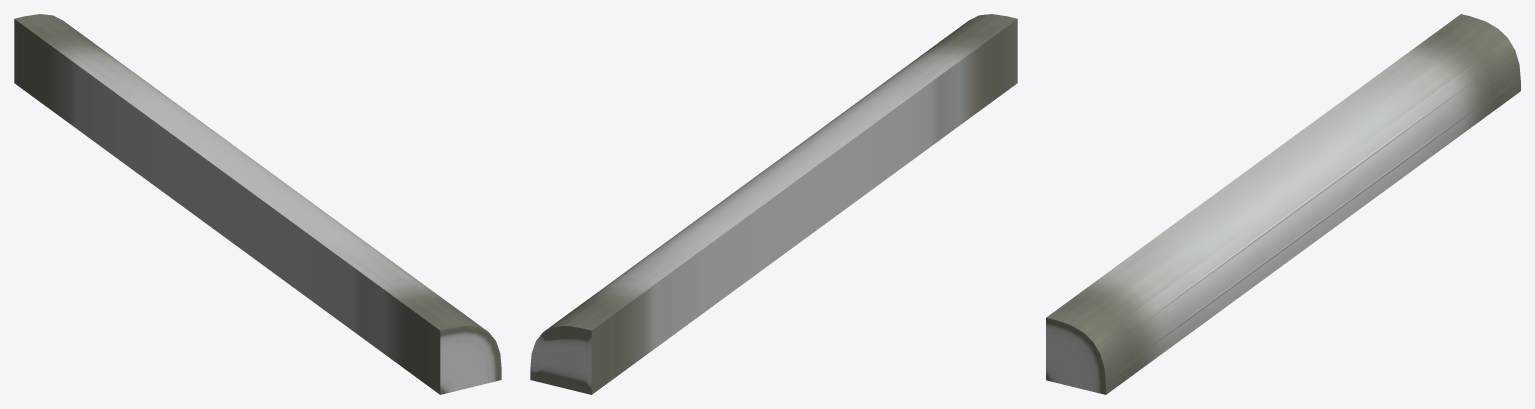
Rendered from Wall_Stroke_Blend.fbx.
The picture shows the model from 3 angles, left to right: view 1: azimuth 30°, elevation 25°; view 2: azimuth 150°, elevation 25°; view 3: azimuth 330°, elevation 25°; orthographic projection. The views are drawn at different scales.
Parts seen in each view (by area): view 1: Wall_Stroke_Blend; view 2: Wall_Stroke_Blend; view 3: Wall_Stroke_Blend.
Part boxes in pixels (bbox=[...]): Wall_Stroke_Blend: bbox=[14, 14, 501, 394]; Wall_Stroke_Blend: bbox=[530, 14, 1017, 394]; Wall_Stroke_Blend: bbox=[1046, 14, 1520, 394].
Bounding box in the file's own units: 0.5 × 0.5 × 6.
Materials: 1 (1 with a texture image).
